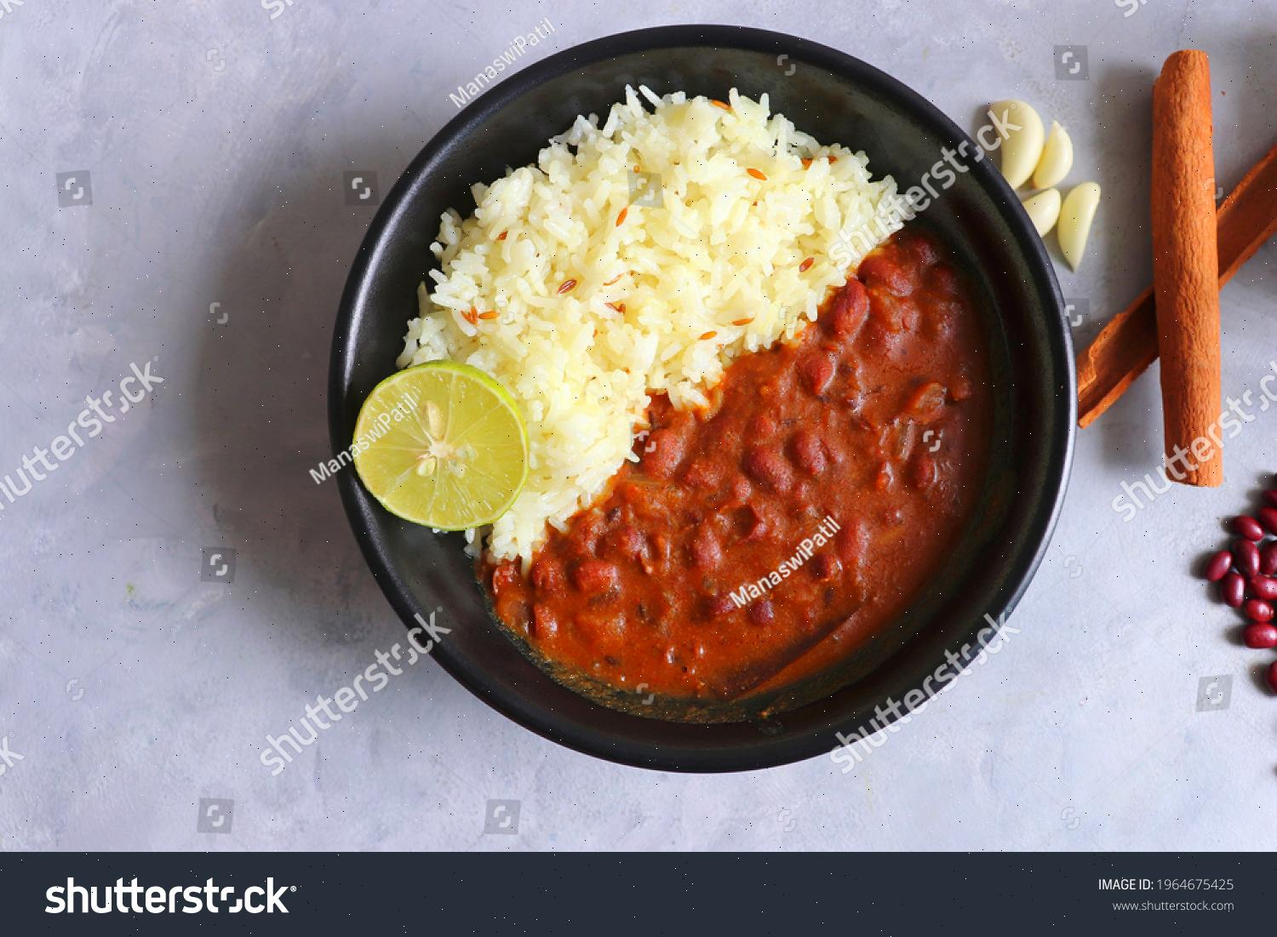rajma: (670, 394, 981, 719)
rice: (496, 98, 841, 364)
